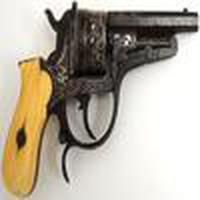gun: (3, 7, 200, 191)
